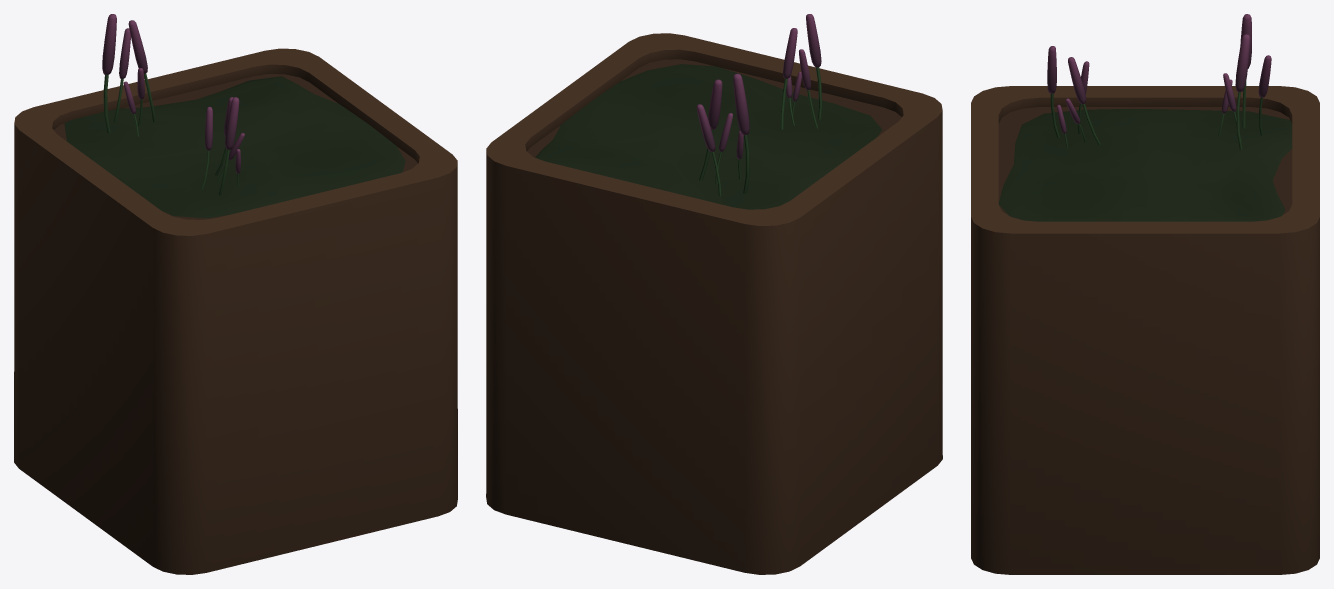
Rendered from Meadow 2.fbx.
3 views of the same model, side by side, from view 1: azimuth 30°, elevation 25°; view 2: azimuth 150°, elevation 25°; view 3: azimuth 270°, elevation 25° (orthographic). The views are drawn at different scales.
Visible parts, largest first — view 1: Meadow Tile 2, Flowers_Purple.001; view 2: Meadow Tile 2, Flowers_Purple.001; view 3: Meadow Tile 2, Flowers_Purple.001.
Part boxes in pixels (<box>): Meadow Tile 2: <box>14,48,457,574</box>; Flowers_Purple.001: <box>102,14,244,195</box>; Meadow Tile 2: <box>486,33,942,574</box>; Flowers_Purple.001: <box>696,14,822,196</box>; Meadow Tile 2: <box>971,86,1319,574</box>; Flowers_Purple.001: <box>1047,14,1271,149</box>.
Size of the model in its own units: 2000 by 2852 by 2000.
